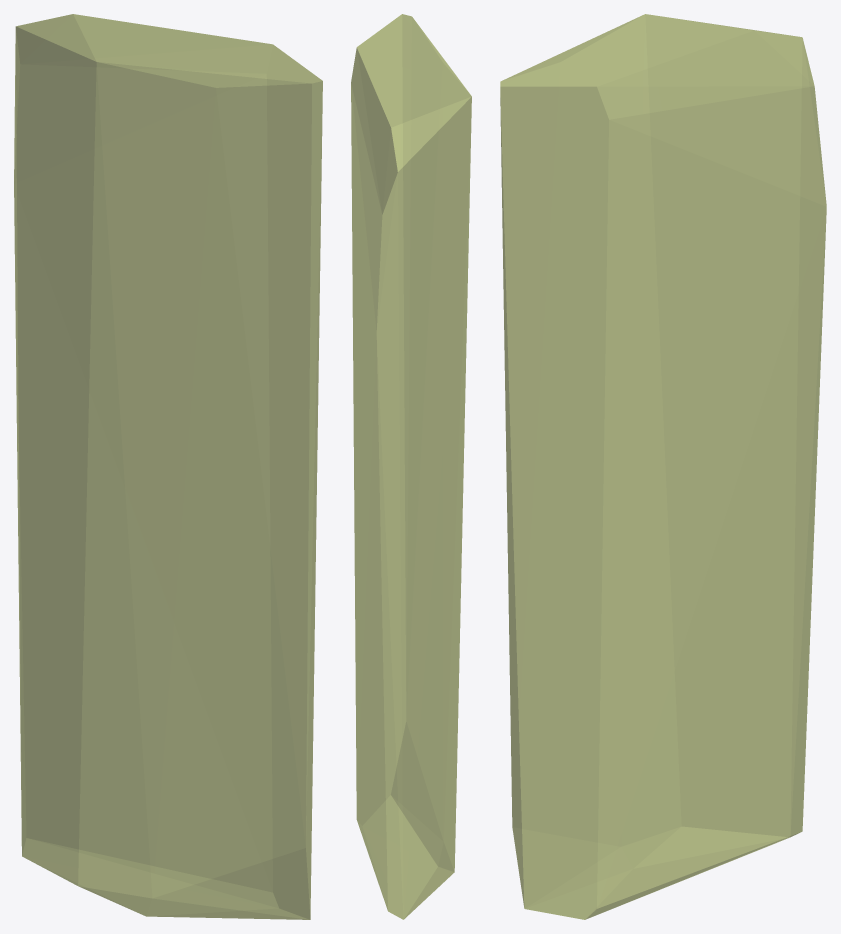
3 views of the same model, side by side, from view 1: azimuth 30°, elevation 25°; view 2: azimuth 150°, elevation 25°; view 3: azimuth 270°, elevation 25° (orthographic). The views are drawn at different scales.
Visible parts, largest first — view 1: Shape_IndexedFaceSet.002_Shape_IndexedFaceSet.600; view 2: Shape_IndexedFaceSet.002_Shape_IndexedFaceSet.600; view 3: Shape_IndexedFaceSet.002_Shape_IndexedFaceSet.600.
Part boxes in pixels (x1,y1,x2,y2): Shape_IndexedFaceSet.002_Shape_IndexedFaceSet.600: (14,14,322,919); Shape_IndexedFaceSet.002_Shape_IndexedFaceSet.600: (351,14,471,919); Shape_IndexedFaceSet.002_Shape_IndexedFaceSet.600: (500,14,826,919).
Size of the model in its own units: 0.0261 by 0.1418 by 0.0503.
